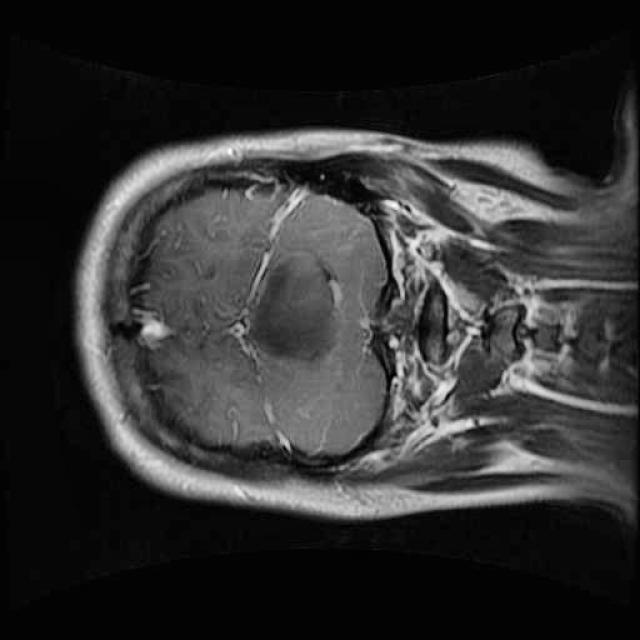Non-Tumor: (230, 226, 360, 376)
